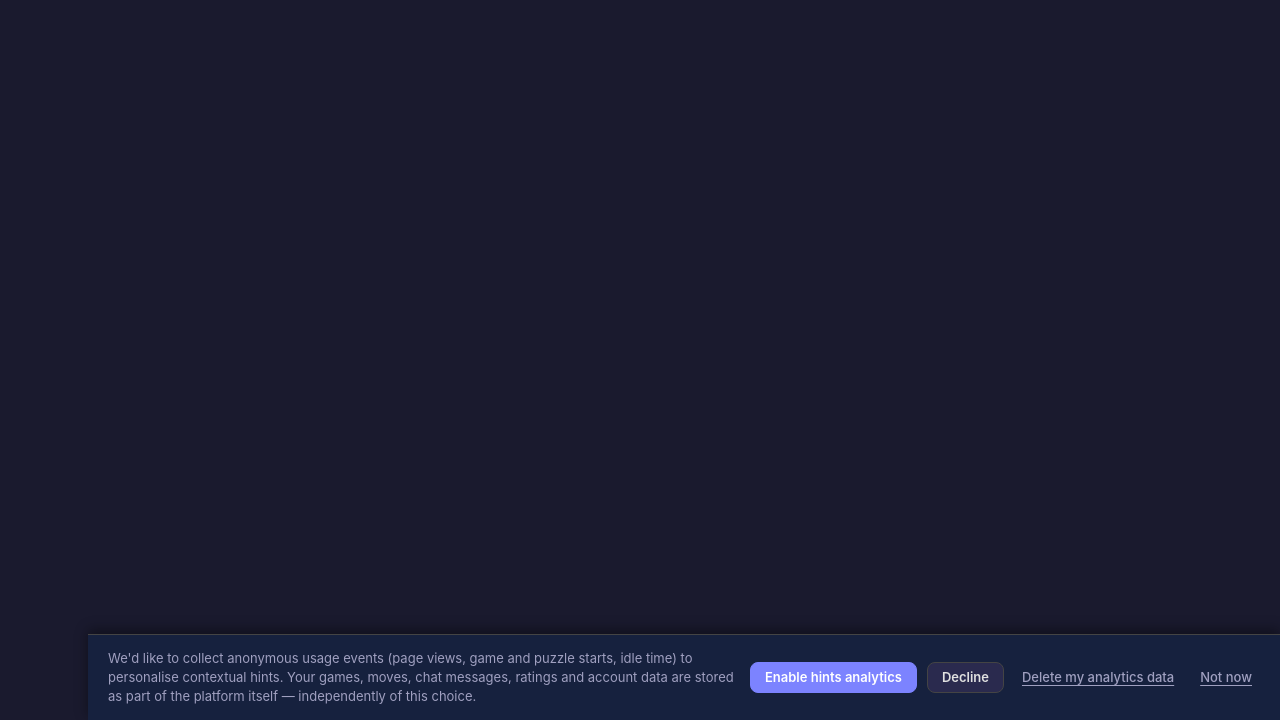
CookieBanner (KS-4698) › гость delete: cancel — DELETE не вызывается
Click the button with test id "cookie-banner-guest-delete" at (1098, 678), box [1014, 665, 1182, 690]
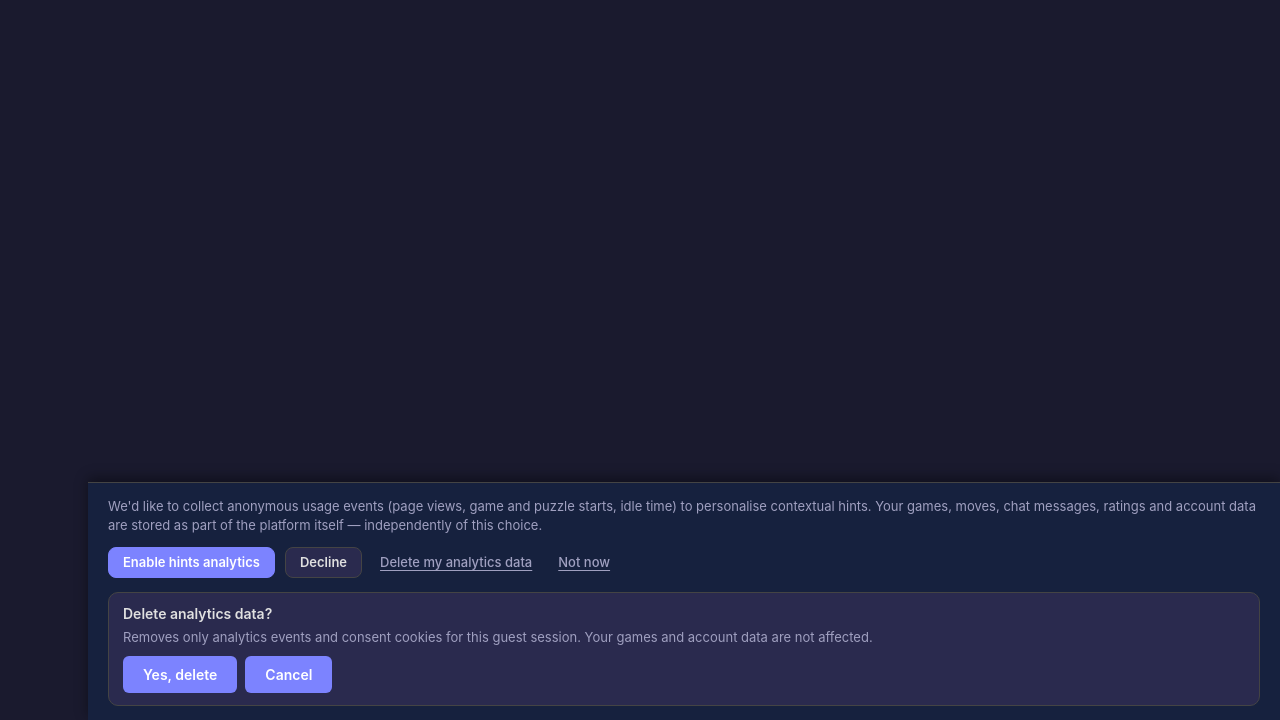
Click the button with test id "cookie-banner-guest-delete-no" at (289, 674), box [245, 656, 332, 693]
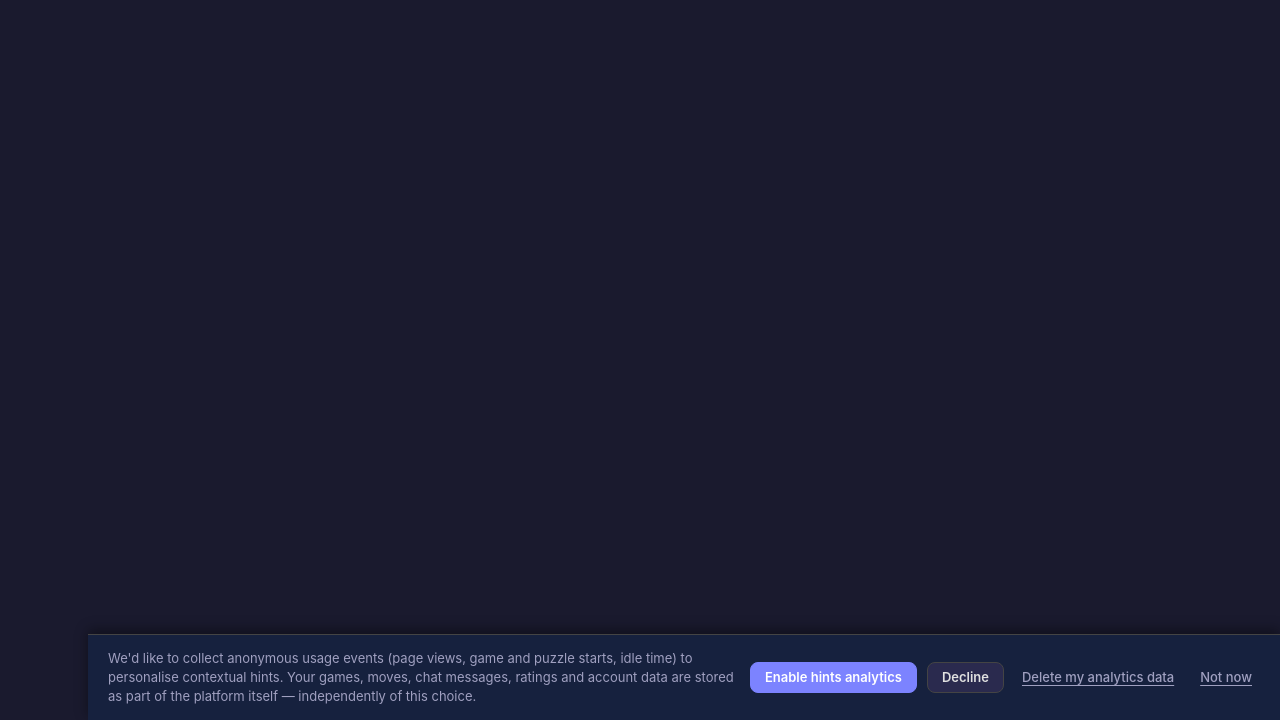
Result: the dialog with test id "cookie-banner-guest-delete-confirm" is gone
